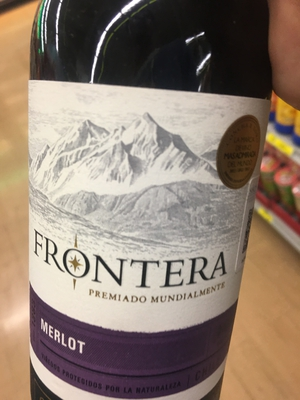frontera merlot: (27, 16, 258, 400)
